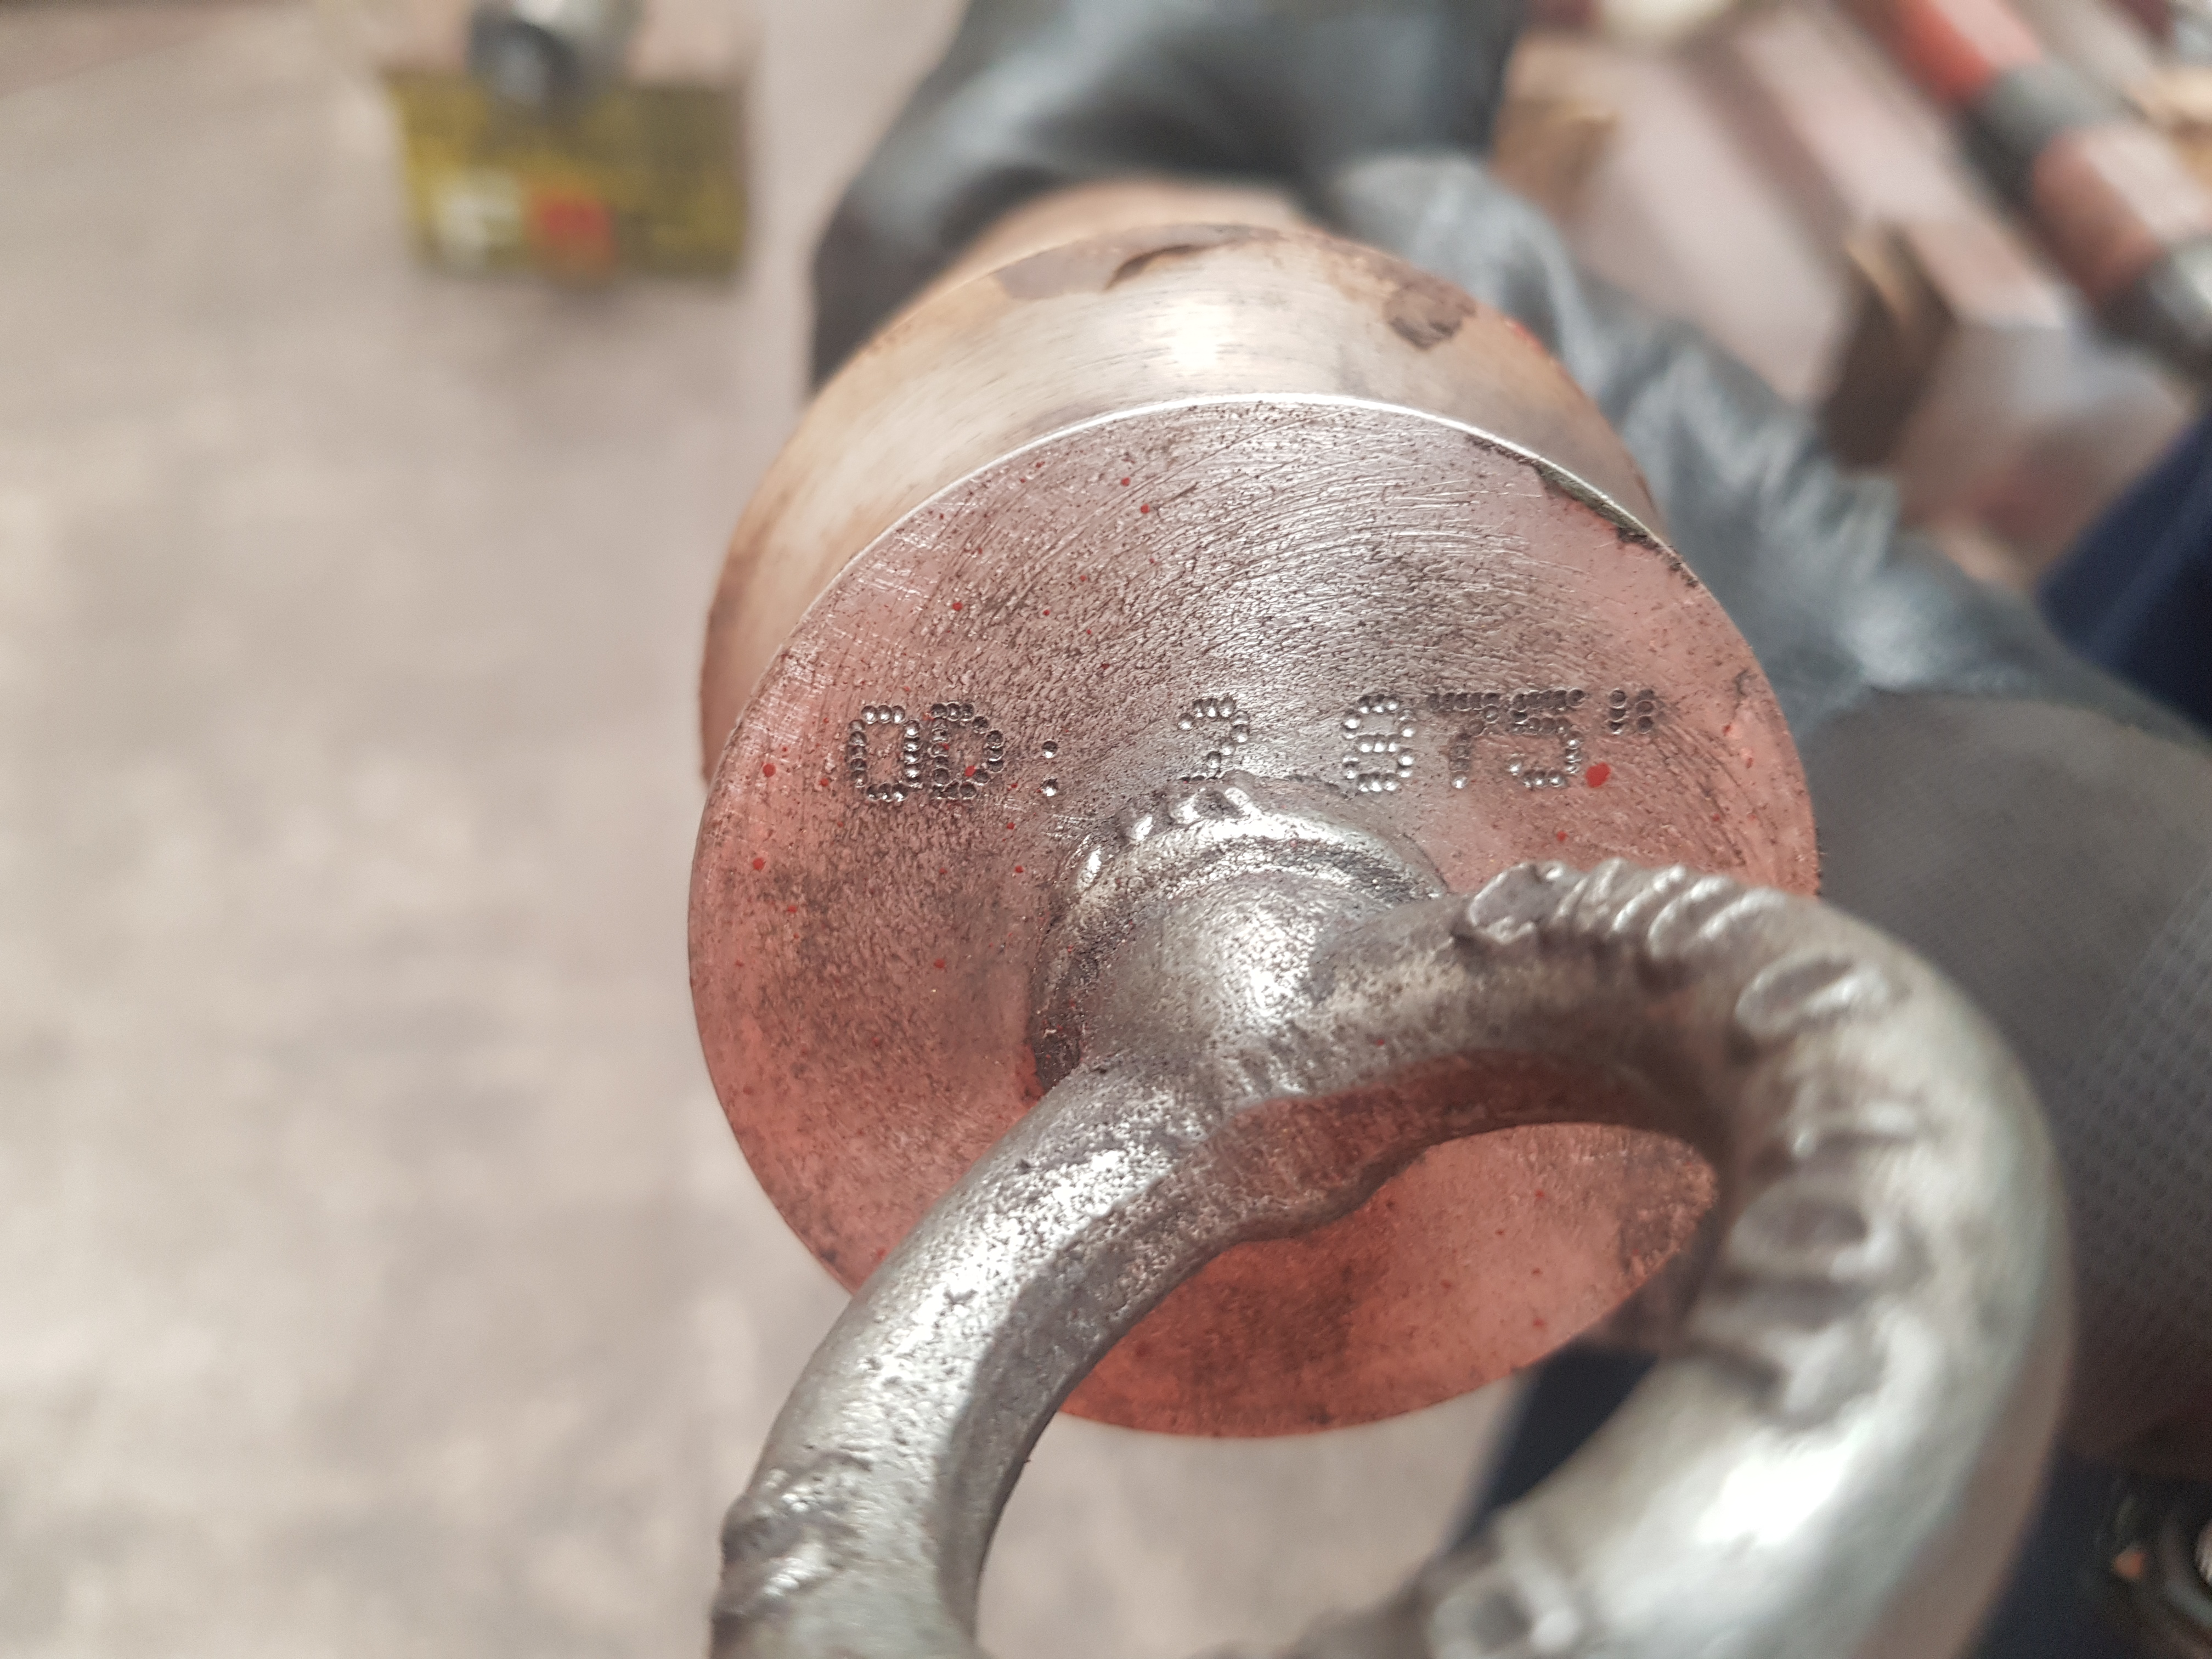character: (1160, 678, 1264, 791), (1501, 673, 1588, 805), (913, 701, 1008, 816), (843, 697, 925, 823), (1331, 685, 1416, 800), (1426, 680, 1505, 803), (1026, 718, 1073, 816)
